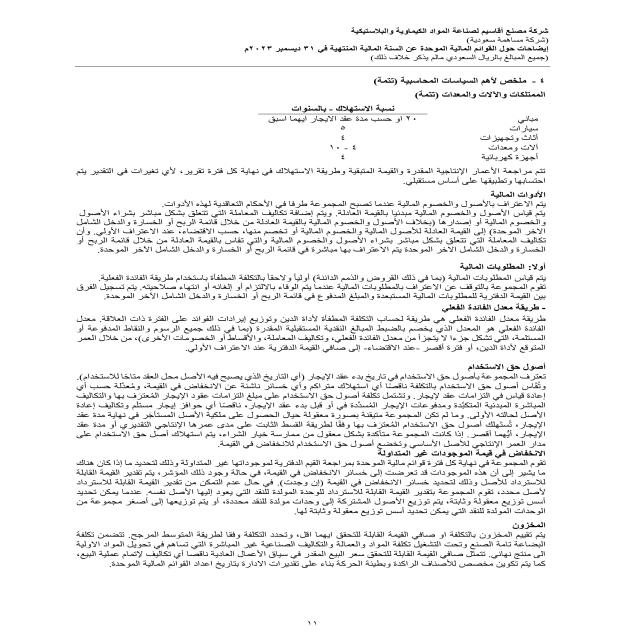notes: (236, 44, 549, 51)
text: (51, 67, 536, 592)
